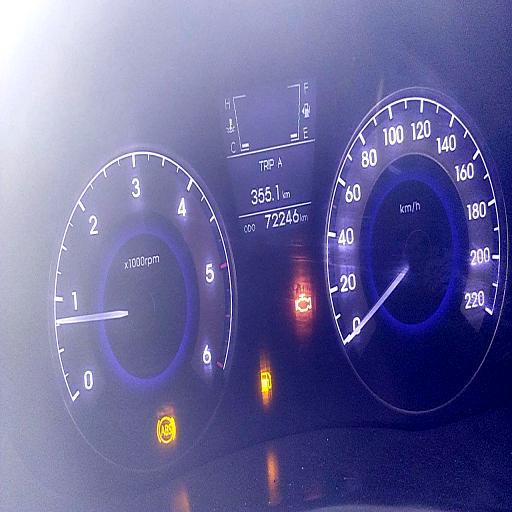check_engine: (296, 292, 312, 314)
tachometer: (45, 143, 238, 460)
